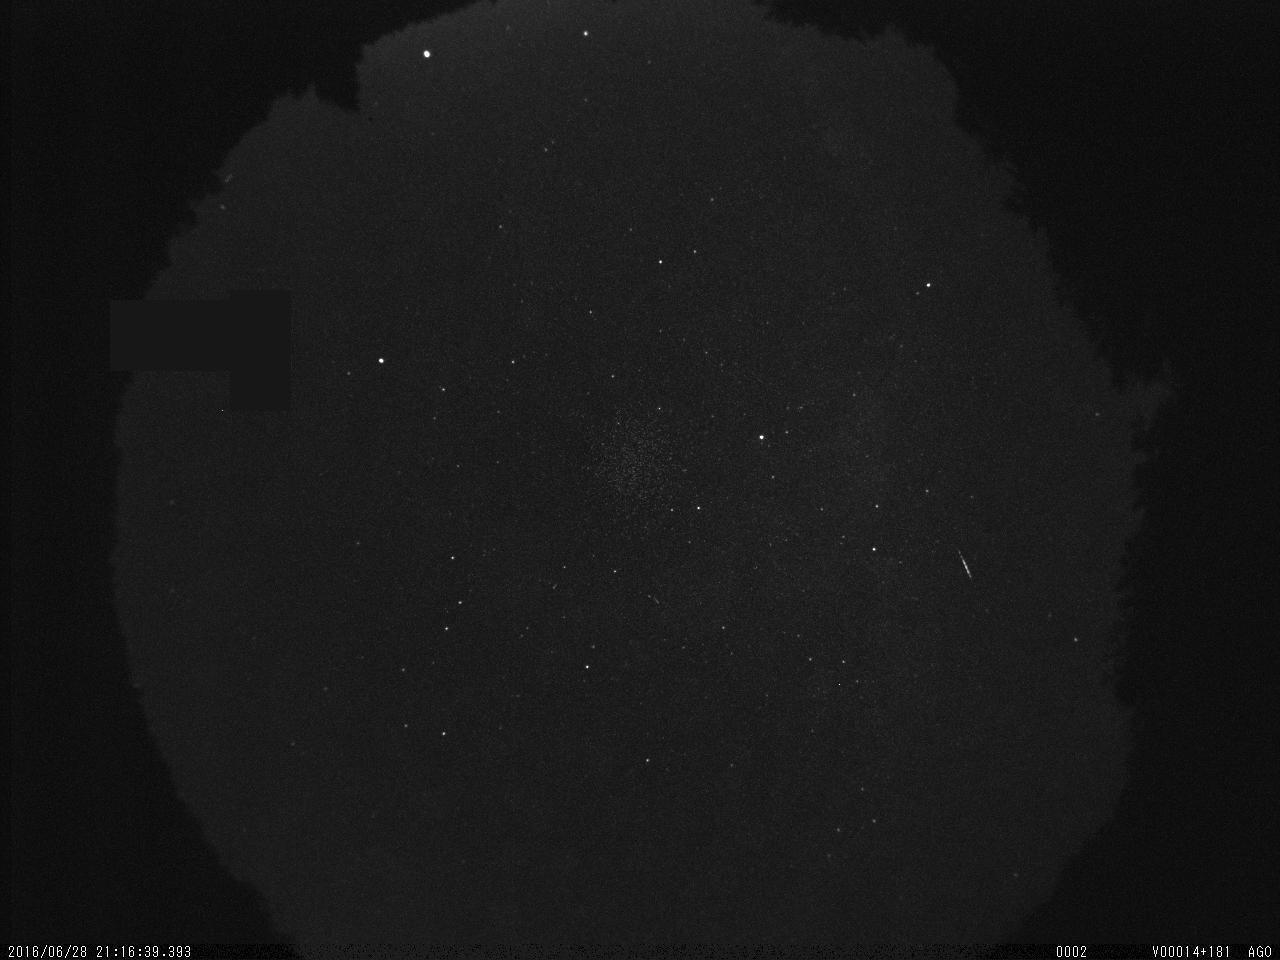meteor: (949, 544, 983, 587)
